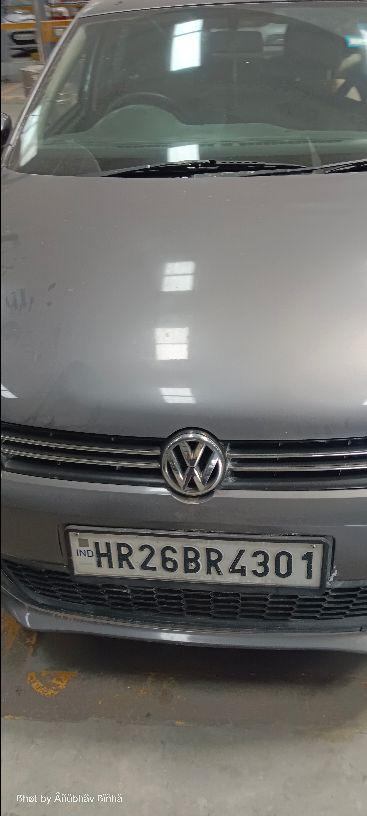license_plate: (63, 524, 330, 590)
